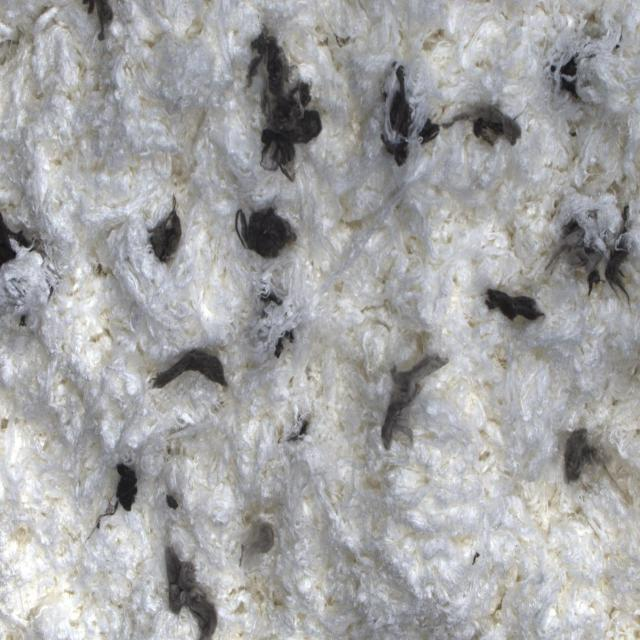dust: (239, 23, 326, 182), (545, 189, 640, 310), (546, 0, 640, 119), (554, 397, 640, 509), (420, 80, 528, 165), (376, 349, 455, 453), (0, 206, 58, 333), (232, 176, 301, 276), (154, 542, 220, 640), (82, 450, 144, 543), (145, 343, 239, 395), (140, 185, 194, 274), (382, 49, 417, 171), (257, 287, 300, 365), (479, 279, 546, 327), (73, 0, 120, 46), (271, 407, 315, 455), (160, 476, 188, 531)
